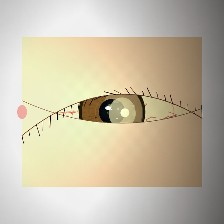corneal_ulcer: (97, 93, 148, 133)
